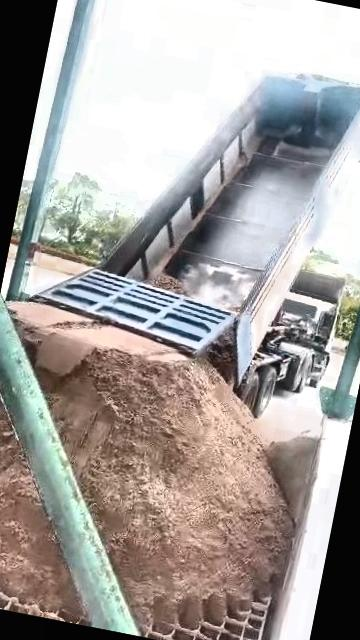sand: (12, 303, 291, 622), (0, 375, 78, 610), (269, 427, 320, 524), (207, 328, 236, 383), (148, 273, 186, 295)
